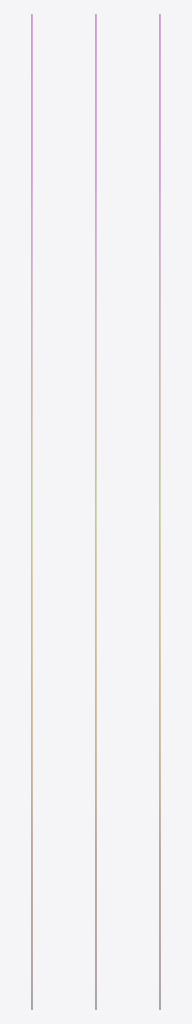
Rendered from SM_DarklineSingleLine_6_seg.FBX.
3 views of the same model, side by side, from view 1: azimuth 90°, elevation 25°; view 2: azimuth 150°, elevation 25°; view 3: azimuth 270°, elevation 25° (orthographic).
Visible parts, largest first — view 1: SM_DarklineSingleLine_6_seg; view 2: SM_DarklineSingleLine_6_seg; view 3: SM_DarklineSingleLine_6_seg.
Part boxes in pixels (x1,y1,x2,y2): SM_DarklineSingleLine_6_seg: (31, 14, 32, 1009); SM_DarklineSingleLine_6_seg: (95, 14, 96, 1009); SM_DarklineSingleLine_6_seg: (159, 14, 160, 1009).
Bounding box in the file's own units: 0.015 × 0.0173 × 30.
